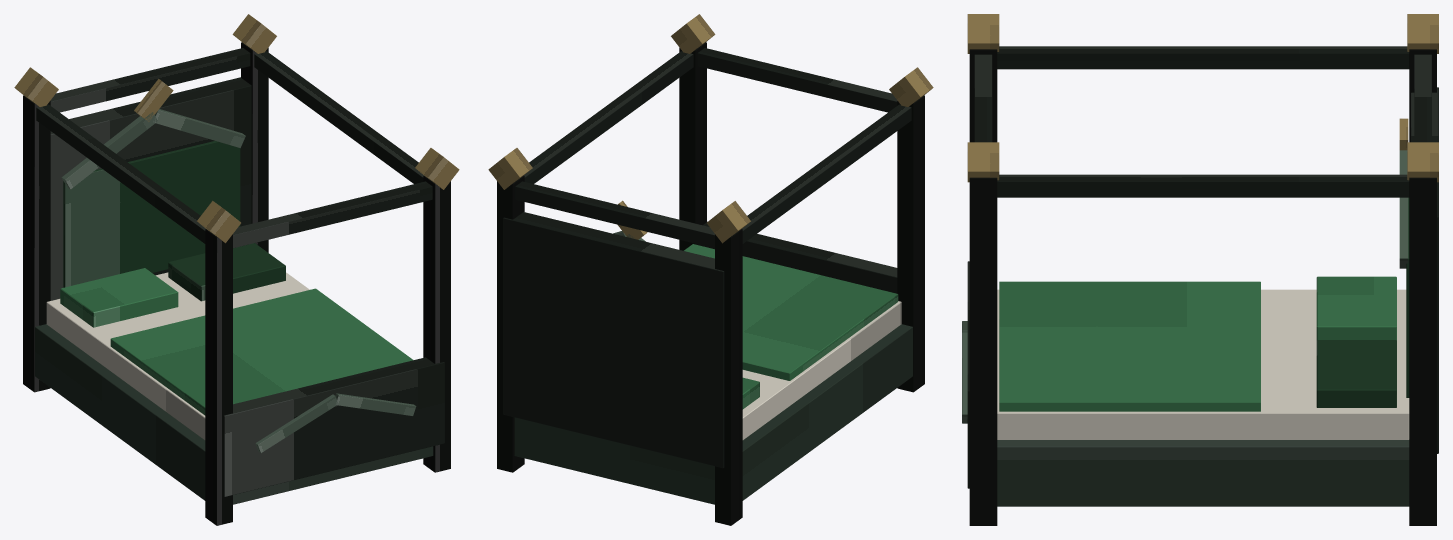
The model's file is gothic_double_bed_forest.glb.
3 views of the same model, side by side, from view 1: azimuth 30°, elevation 25°; view 2: azimuth 150°, elevation 25°; view 3: azimuth 270°, elevation 25° (orthographic). The views are drawn at different scales.
Visible parts, largest first — view 1: GothicFootboard, GothicBlanket, HeadboardVelvet, GothicBedFrame, TallHeadboard, GothicMattress, FootPostL, HeadPostL, FootPostR, GothicPillow_1, CanopySideL, CanopySideR (+13 smaller); view 2: TallHeadboard, GothicBedFrame, GothicBlanket, FootPostL, HeadPostL, GothicMattress, FootPostR, CanopySideL, CanopySideR, CanopyHeadRail, GothicFootboard, CanopyFootRail (+5 smaller); view 3: GothicBlanket, GothicBedFrame, GothicMattress, FootPostR, CanopySideL, CanopySideR, HeadPostR, GothicPillow_2, GothicPillow_1, CanopyFootRail, CanopyHeadRail, FootPostL (+10 smaller).
Part boxes in pixels (x1,y1,x2,y2): GothicFootboard: (223,357,444,496); GothicBlanket: (110,288,413,415); HeadboardVelvet: (63,141,240,287); GothicBedFrame: (35,324,433,504); TallHeadboard: (50,77,251,300); GothicMattress: (46,272,309,439); FootPostL: (205,229,232,525); HeadPostL: (23,95,50,392); FootPostR: (423,175,450,472); GothicPillow_1: (60,268,178,327); CanopySideL: (36,104,205,243); CanopySideR: (254,51,423,183); TallHeadboard: (503,212,724,468); GothicBedFrame: (514,324,912,504); GothicBlanket: (684,244,898,380); FootPostL: (897,95,924,392); HeadPostL: (715,229,742,525); GothicMattress: (742,301,901,439); FootPostR: (679,42,706,250); CanopySideL: (742,104,911,243); CanopySideR: (524,51,693,183); CanopyHeadRail: (515,181,714,248); GothicFootboard: (697,221,897,293); CanopyFootRail: (697,48,897,112); GothicBlanket: (999,281,1260,411); GothicBedFrame: (997,440,1409,506); GothicMattress: (997,289,1409,439); FootPostR: (969,177,997,525); CanopySideL: (997,46,1409,69); CanopySideR: (997,174,1409,197); HeadPostR: (1409,177,1436,525); GothicPillow_2: (1316,340,1396,407); GothicPillow_1: (1316,276,1396,340); CanopyFootRail: (974,54,992,142); CanopyHeadRail: (1414,54,1431,142); FootPostL: (969,49,997,142).
Bounding box in the file's own units: 1.99 × 2.4 × 2.73.
1 material, 1 textured.
